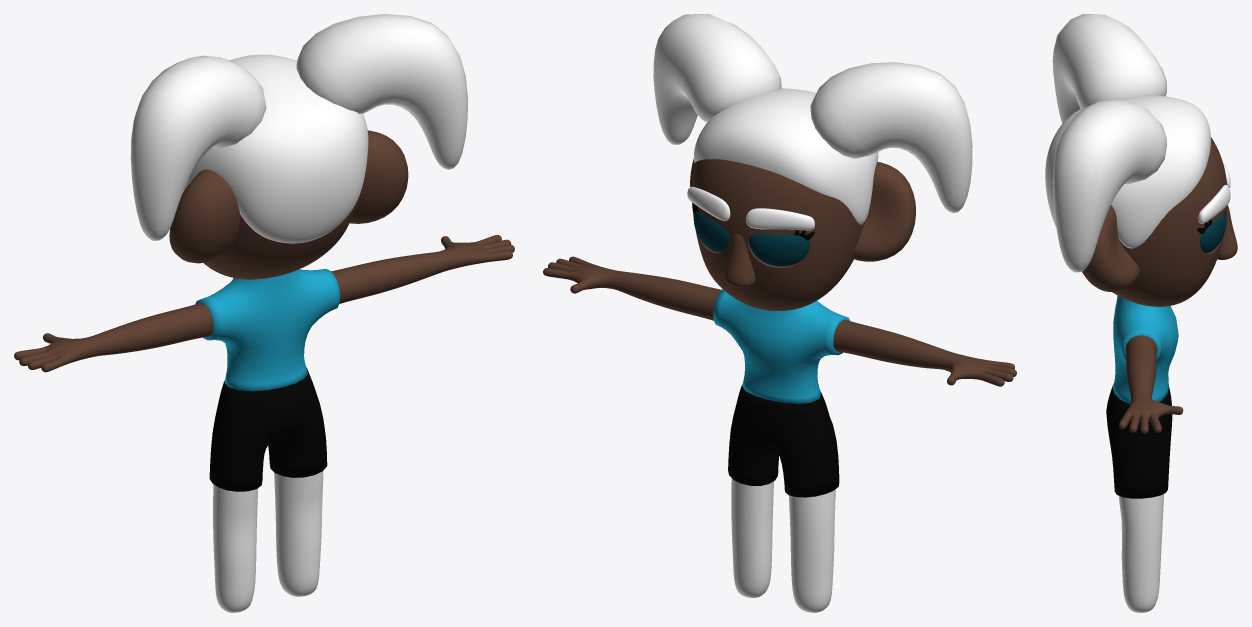
Rendered from FemaleNPC3.fbx.
3 renders of one model, left to right at view 1: azimuth 30°, elevation 25°; view 2: azimuth 150°, elevation 25°; view 3: azimuth 270°, elevation 25°, orthographic. The views are drawn at different scales.
Visible parts, largest first — view 1: HairExtra, Body.004, Hairbase.003, Head.004, shirt.001, Trousers.001; view 2: HairExtra, Head.004, Body.004, Hairbase.003, Trousers.001, shirt.001, Brows.003; view 3: HairExtra, Head.004, Hairbase.003, Body.004, Trousers.001, shirt.001, Brows.003.
Boxes of the visible parts, x1,y1,x2,y2 form: HairExtra: (130, 14, 467, 240); Body.004: (14, 235, 514, 612); Hairbase.003: (183, 54, 368, 243); Head.004: (169, 130, 408, 279); shirt.001: (195, 269, 340, 391); Trousers.001: (209, 367, 327, 491); HairExtra: (653, 14, 972, 213); Head.004: (690, 158, 915, 310); Body.004: (543, 256, 1016, 612); Hairbase.003: (694, 88, 878, 224); Trousers.001: (728, 384, 839, 497); shirt.001: (713, 289, 849, 403); Brows.003: (687, 186, 814, 230); HairExtra: (1052, 14, 1166, 272); Head.004: (1082, 137, 1237, 306); Hairbase.003: (1045, 95, 1210, 248); Body.004: (1119, 335, 1183, 612); Trousers.001: (1106, 383, 1172, 498); shirt.001: (1113, 295, 1178, 404); Brows.003: (1198, 163, 1230, 223).
Bounding box in the file's own units: 172 × 193 × 63.37.
